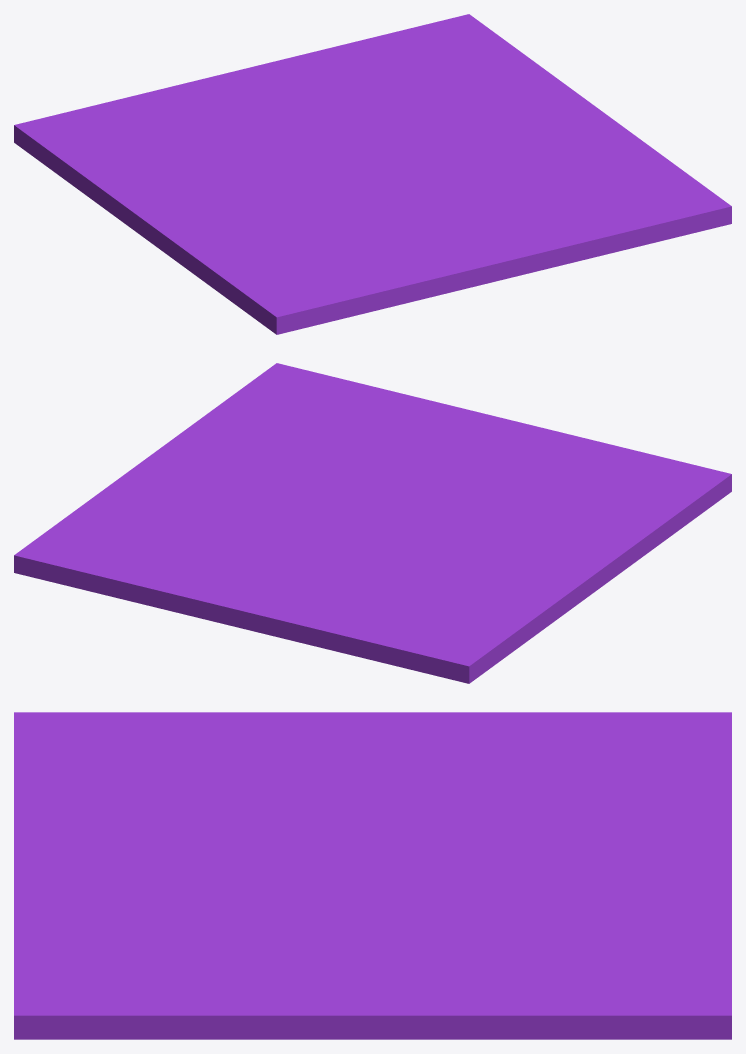
Rendered from Platform_12_chunks.fbx.
The picture shows the model from 3 angles, top to bottom: view 1: azimuth 30°, elevation 25°; view 2: azimuth 150°, elevation 25°; view 3: azimuth 270°, elevation 25°; orthographic projection. The views are drawn at different scales.
Visible parts, largest first — view 1: Platform_12_1, Platform_12_7, Platform_12_3, Platform_12_11, Platform_12_9, Platform_12_8, Platform_12_5, Platform_12_15, Platform_12_14, Platform_12_2, Platform_12_12, Platform_12_4 (+1 smaller); view 2: Platform_12_7, Platform_12_1, Platform_12_11, Platform_12_9, Platform_12_3, Platform_12_8, Platform_12_15, Platform_12_14, Platform_12_5, Platform_12_2, Platform_12_12, Platform_12_4 (+1 smaller); view 3: Platform_12_11, Platform_12_7, Platform_12_9, Platform_12_1, Platform_12_3, Platform_12_8, Platform_12_5, Platform_12_15, Platform_12_14, Platform_12_2, Platform_12_12, Platform_12_0 (+3 smaller).
Part boxes in pixels (bbox=[...]): Platform_12_1: bbox=[121, 192, 367, 334]; Platform_12_7: bbox=[14, 93, 276, 220]; Platform_12_3: bbox=[347, 191, 581, 312]; Platform_12_11: bbox=[382, 14, 589, 149]; Platform_12_9: bbox=[530, 103, 731, 250]; Platform_12_8: bbox=[370, 148, 622, 260]; Platform_12_5: bbox=[272, 84, 420, 181]; Platform_12_15: bbox=[143, 51, 333, 119]; Platform_12_14: bbox=[315, 16, 461, 90]; Platform_12_2: bbox=[203, 167, 431, 210]; Platform_12_12: bbox=[260, 79, 367, 122]; Platform_12_4: bbox=[301, 207, 381, 226]; Platform_12_7: bbox=[335, 542, 577, 683]; Platform_12_1: bbox=[502, 452, 731, 605]; Platform_12_11: bbox=[15, 466, 331, 554]; Platform_12_9: bbox=[135, 363, 386, 468]; Platform_12_3: bbox=[395, 401, 640, 493]; Platform_12_8: bbox=[281, 390, 434, 520]; Platform_12_15: bbox=[166, 572, 340, 652]; Platform_12_14: bbox=[22, 538, 215, 609]; Platform_12_5: bbox=[181, 515, 452, 572]; Platform_12_2: bbox=[377, 480, 513, 563]; Platform_12_12: bbox=[215, 555, 335, 579]; Platform_12_4: bbox=[454, 490, 511, 517]; Platform_12_11: bbox=[329, 880, 729, 1039]; Platform_12_7: bbox=[395, 712, 731, 842]; Platform_12_9: bbox=[14, 942, 400, 1039]; Platform_12_1: bbox=[14, 712, 433, 809]; Platform_12_3: bbox=[14, 772, 261, 909]; Platform_12_8: bbox=[14, 861, 415, 946]; Platform_12_5: bbox=[371, 805, 568, 943]; Platform_12_15: bbox=[579, 798, 731, 912]; Platform_12_14: bbox=[567, 903, 731, 1010]; Platform_12_2: bbox=[250, 760, 413, 876]; Platform_12_12: bbox=[561, 838, 641, 914]; Platform_12_0: bbox=[621, 991, 731, 1039].
Bounding box in the file's own units: 810 × 29.87 × 810.
